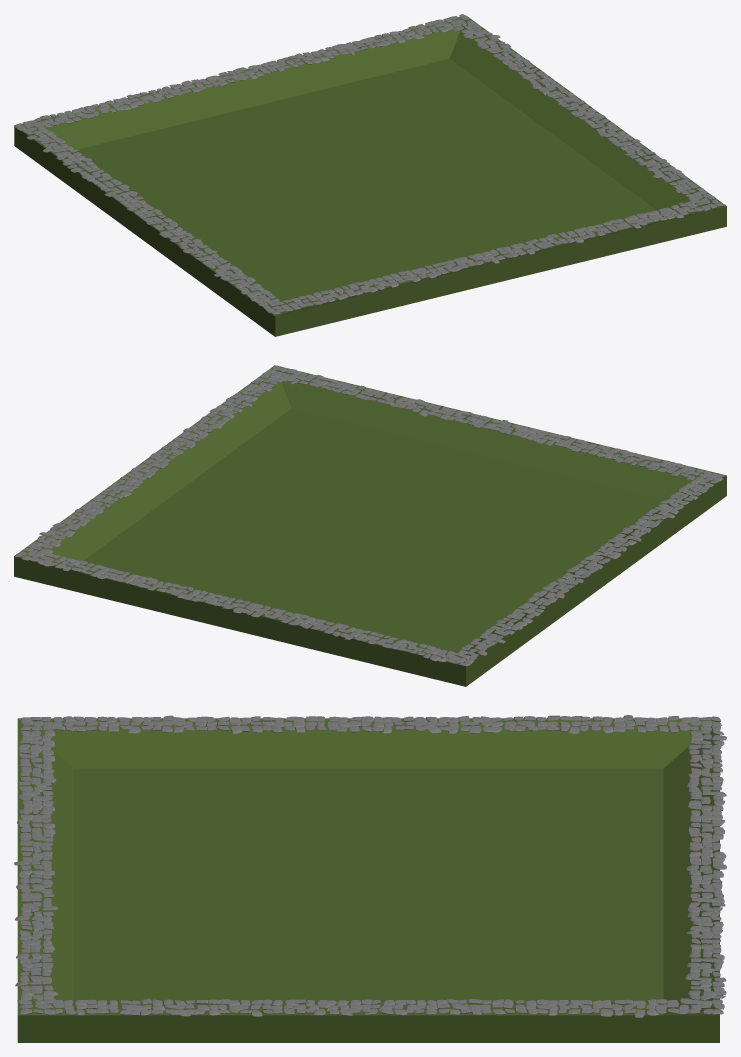
Rendered from Floor2.fbx.
The picture shows the model from 3 angles, top to bottom: view 1: azimuth 30°, elevation 25°; view 2: azimuth 150°, elevation 25°; view 3: azimuth 270°, elevation 25°; orthographic projection. The views are drawn at different scales.
Visible parts, largest first — view 1: Floor2; view 2: Floor2; view 3: Floor2.
Part boxes in pixels (<box>): Floor2: <box>14,14,726,336</box>; Floor2: <box>14,365,726,686</box>; Floor2: <box>14,715,726,1042</box>.
Bounding box in the file's own units: 10196 × 458 × 10148.
